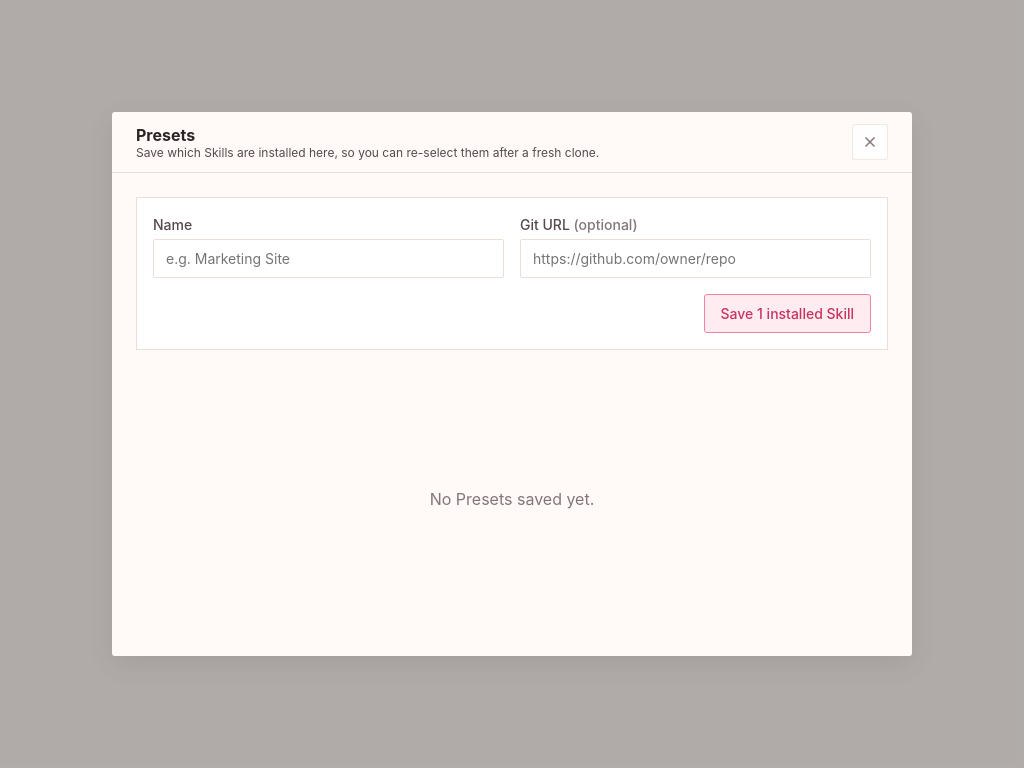
Test: PresetsDialog › fills the Name field from the git URL's repo name while Name is still empty
Type "https://github.com/Mgldvd/skills-installer" into the field labelled "Git URL (optional)". click: {"x": 696, "y": 258}
box: x1=520 y1=239 x2=871 y2=278
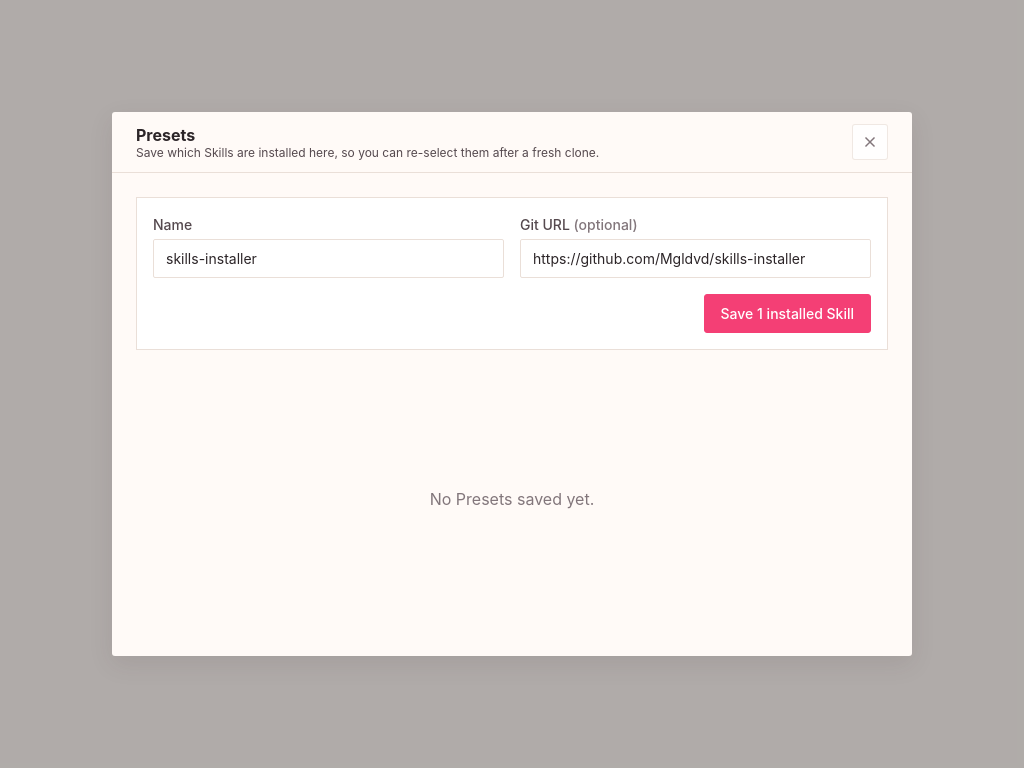
Result: the field labelled "Name" holds "skills-installer" at x1=153 y1=239 x2=504 y2=278
